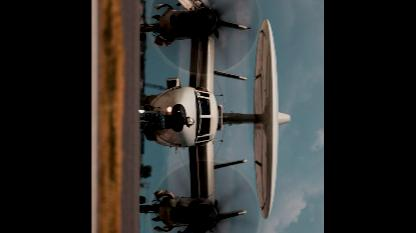C5: (139, 0, 292, 232)
